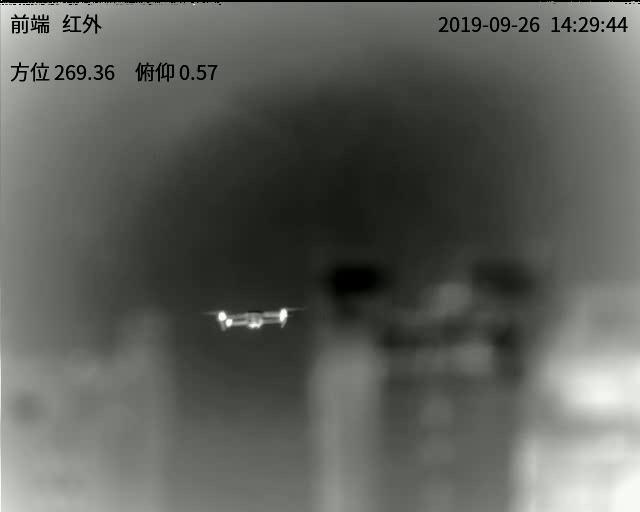DRONE: (213, 307, 293, 332)
